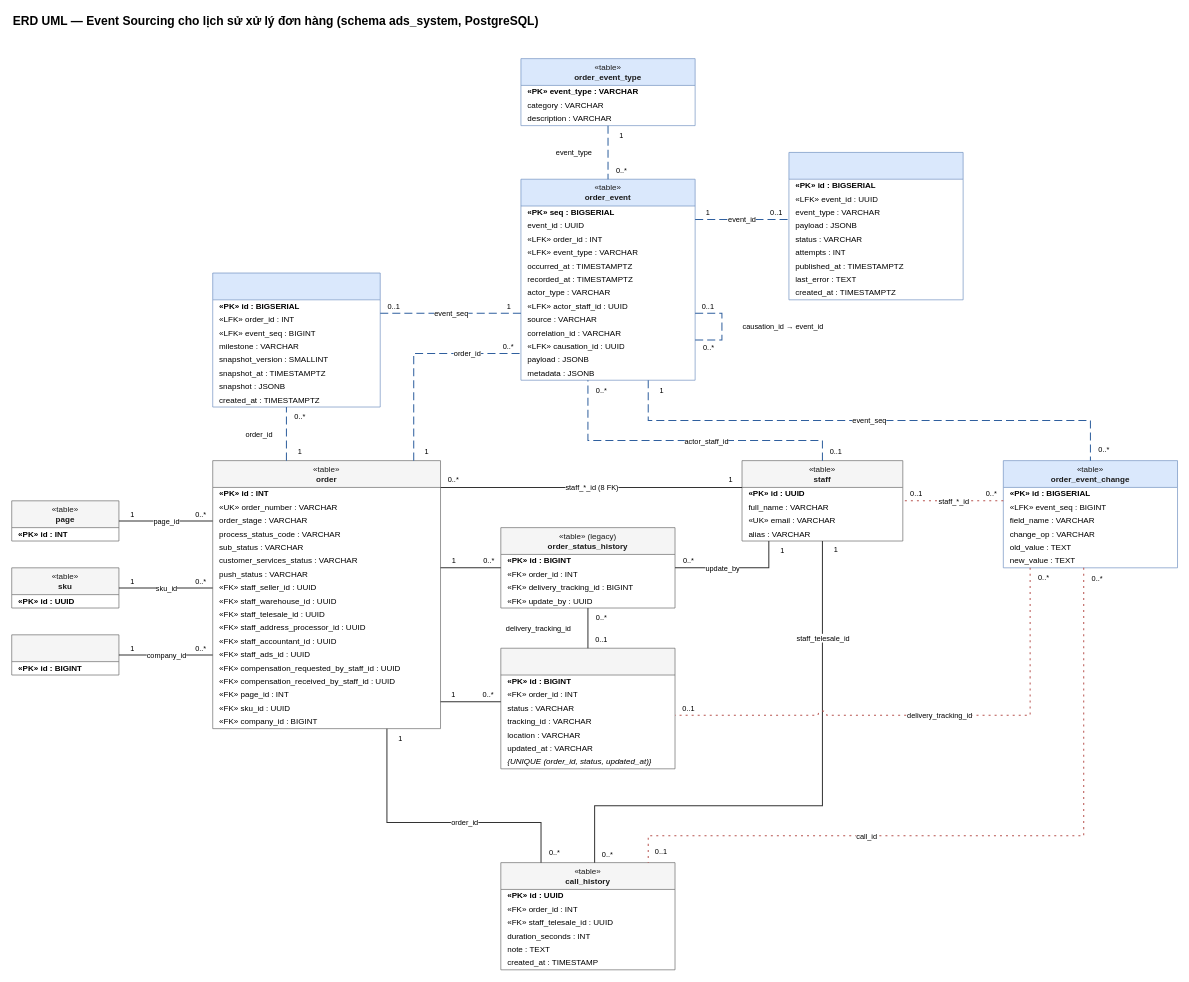
This 1189x982 diagram has some shape labels left out. Here are the shapes that lost their labels. From the top down, the box of each, then its label:
(788, 152, 963, 300): «table» order_event_outbox
(212, 272, 380, 407): «table» order_snapshot
(11, 634, 119, 675): «table» company
(500, 648, 675, 769): «table» delivery_tracking
